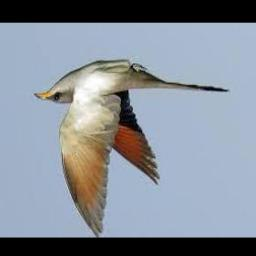Cuckoo: (36, 61, 229, 238)
